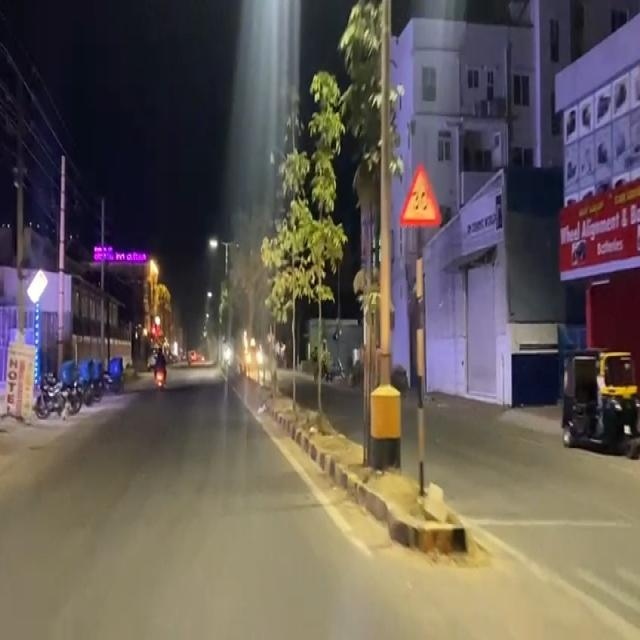bien_nguy_hiem: (399, 157, 442, 231)
